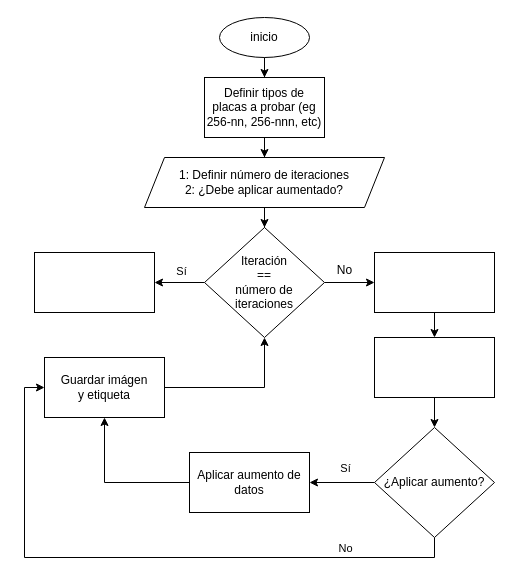
This 512x583 diagram has some shape labels left out. Here are the shapes that lost their labels. From the top down, the box of each, then its label:
(34, 252, 154, 312): Finalizar programa
(374, 252, 494, 312): Selección aleatoria de tipo de placa
(374, 336, 494, 398): Generación de placas
